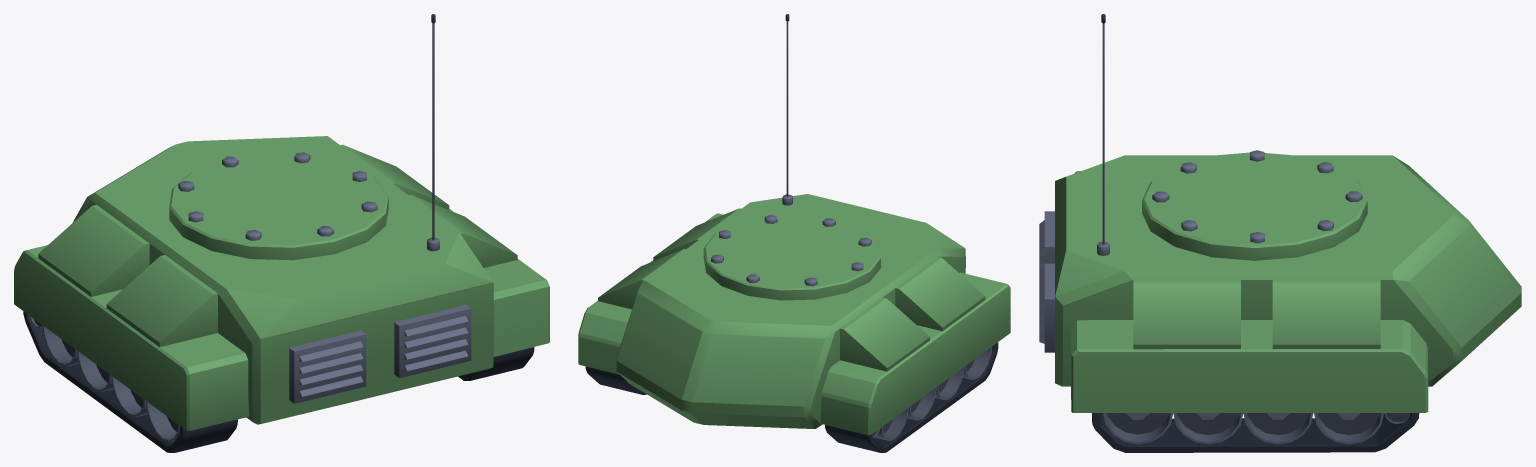
File: toon_tank_base.obj
3 renders of one model, left to right at view 1: azimuth 30°, elevation 25°; view 2: azimuth 150°, elevation 25°; view 3: azimuth 270°, elevation 25°, orthographic. The views are drawn at different scales.
Visible parts, largest first — view 1: Tank_Base_Cube.048, Tank_Wheel_2_Cube.009, Tank_Wheel_3_Cube.004, Tank_Wheel_4_Cube.006, Tank_Wheel_5_Cube.016; view 2: Tank_Base_Cube.048, Tank_Wheel_2_Cube.009, Tank_Wheel_3_Cube.004, Tank_Wheel_4_Cube.006, Tank_Wheel_5_Cube.016; view 3: Tank_Base_Cube.048, Tank_Wheel_3_Cube.004, Tank_Wheel_4_Cube.006, Tank_Wheel_5_Cube.016, Tank_Wheel_2_Cube.009.
Part boxes in pixels (x1,y1,x2,y2): Tank_Base_Cube.048: (14,14,549,452); Tank_Wheel_2_Cube.009: (42,325,79,366); Tank_Wheel_3_Cube.004: (77,351,113,392); Tank_Wheel_4_Cube.006: (111,376,147,417); Tank_Wheel_5_Cube.016: (146,401,179,442); Tank_Base_Cube.048: (578,14,1010,452); Tank_Wheel_2_Cube.009: (875,408,908,440); Tank_Wheel_3_Cube.004: (907,387,936,420); Tank_Wheel_4_Cube.006: (935,367,964,400); Tank_Wheel_5_Cube.016: (962,346,992,379); Tank_Base_Cube.048: (1039,14,1521,452); Tank_Wheel_3_Cube.004: (1243,413,1313,444); Tank_Wheel_4_Cube.006: (1173,413,1243,444); Tank_Wheel_5_Cube.016: (1103,413,1172,444); Tank_Wheel_2_Cube.009: (1314,413,1383,444).
Bounding box in the file's own units: 3.62 × 3.66 × 4.09.
1 material, 1 textured.
